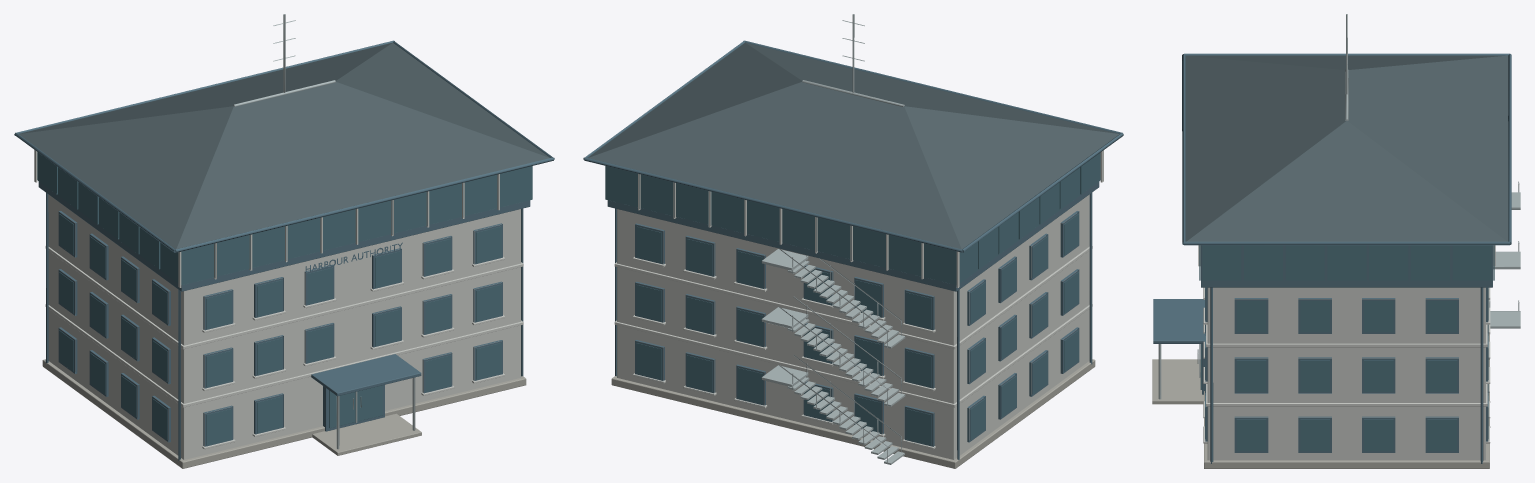
File: harbour_authority_20m_lod1.glb
3 views of the same model, side by side, from view 1: azimuth 30°, elevation 25°; view 2: azimuth 150°, elevation 25°; view 3: azimuth 270°, elevation 25° (orthographic). The views are drawn at different scales.
Parts seen in each view (by area): view 1: harbour_authority_20m_lod1; view 2: harbour_authority_20m_lod1; view 3: harbour_authority_20m_lod1.
Boxes of the visible parts, bbox=[...] form: harbour_authority_20m_lod1: bbox=[14, 14, 554, 468]; harbour_authority_20m_lod1: bbox=[583, 14, 1123, 468]; harbour_authority_20m_lod1: bbox=[1152, 14, 1520, 468].
Bounding box in the file's own units: 22.6 × 20.5 × 18.55.
